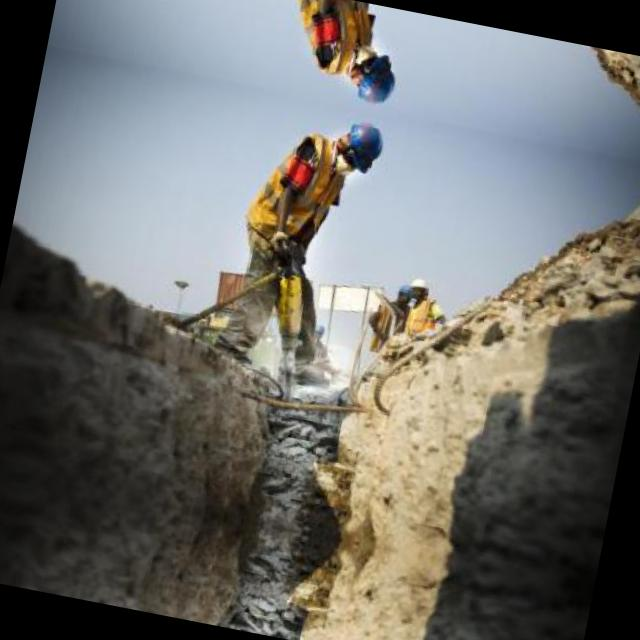helmet: (325, 111, 387, 176), (338, 46, 400, 110), (406, 272, 432, 303), (392, 280, 416, 306), (310, 317, 328, 341)
